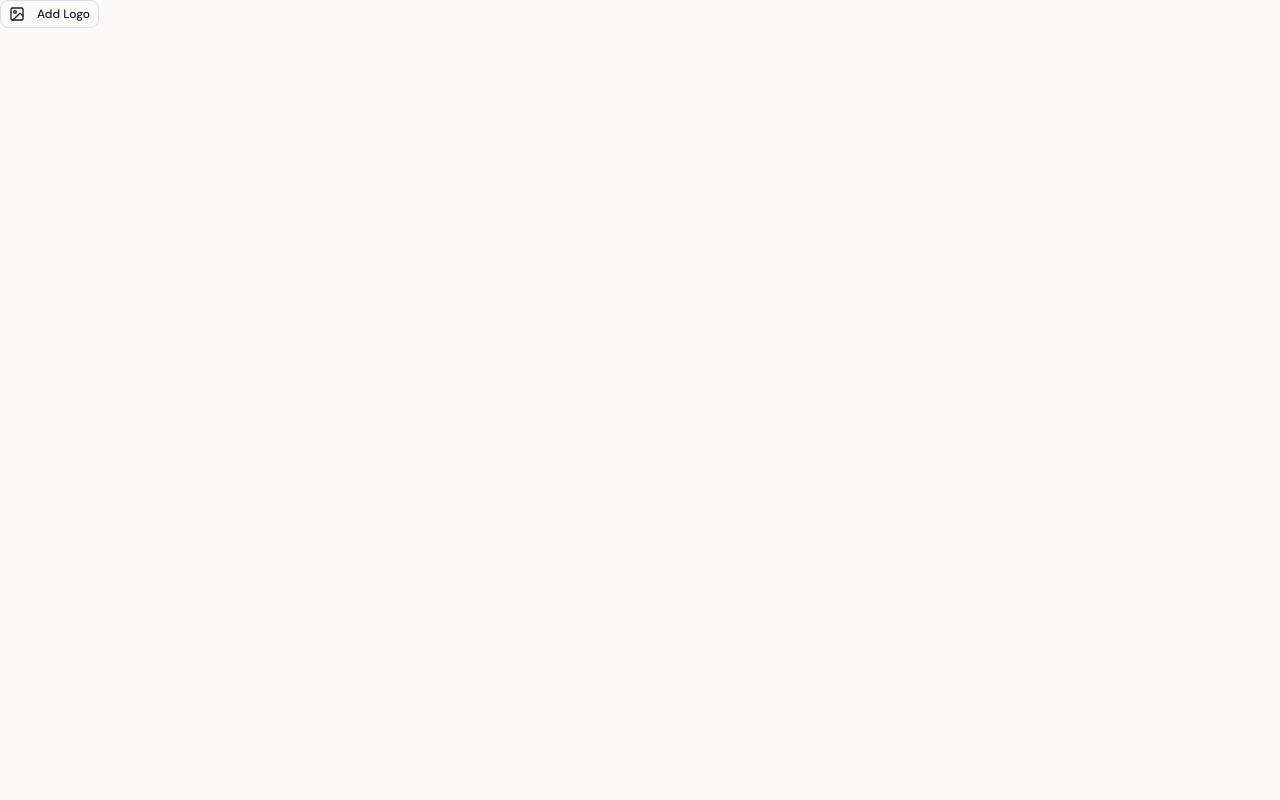
Scenario: InstitutionLogoUpload — the file gate › turns away a file that is not one of the four image types
What coordinates should you click on to do the following:
click the button "Add Logo"
I would click on:
 (50, 14)
Its box is [0,0,99,28].
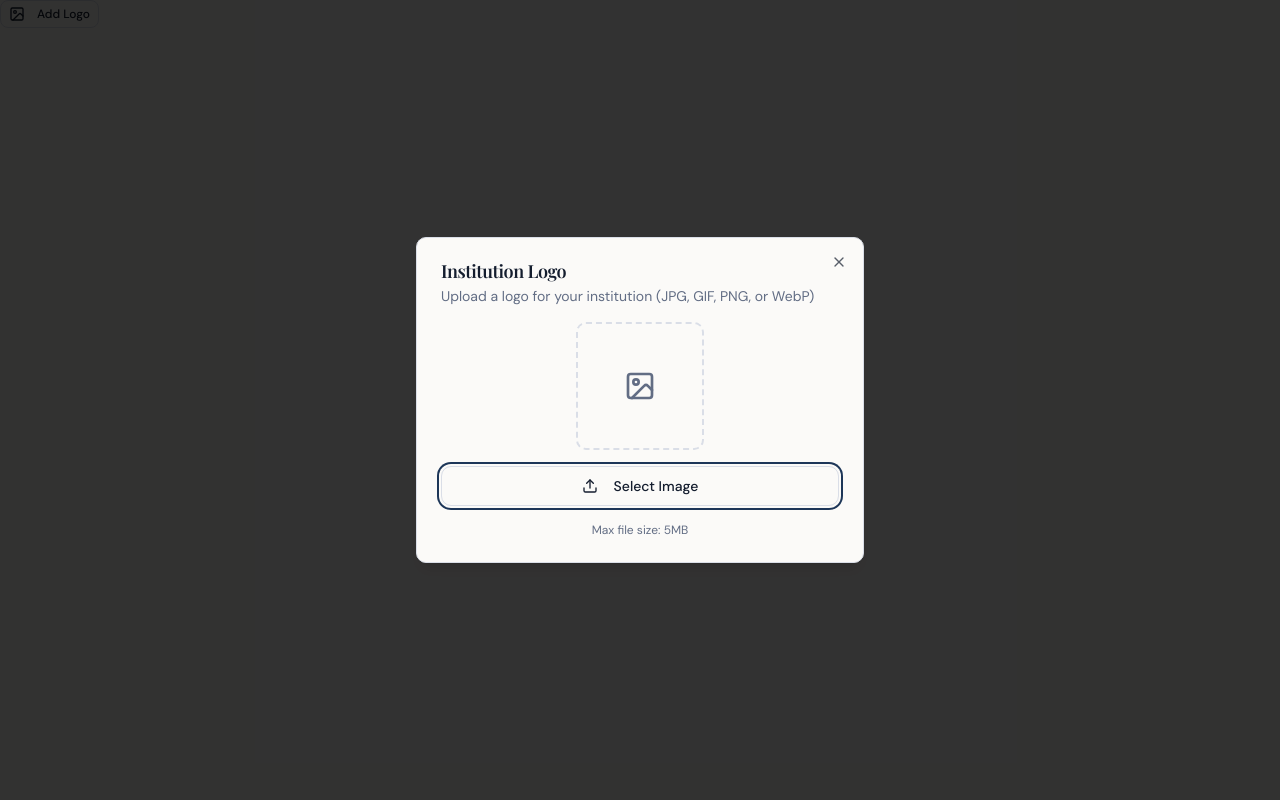
Expected: the dialog is shown, [416,237,864,563]
